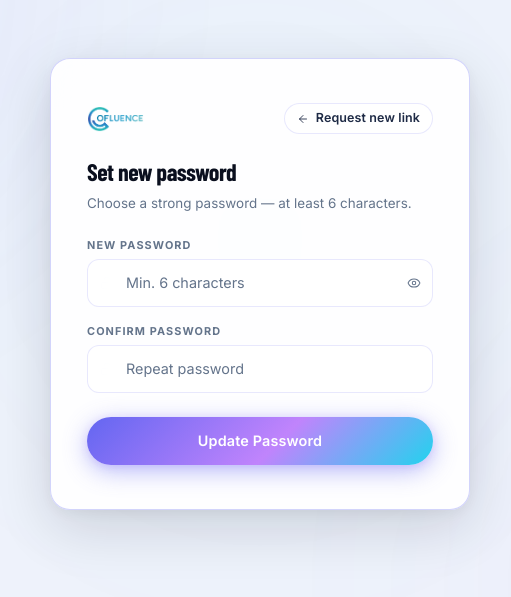
Test: ResetPassword › shows error when passwords do not match
Type "password1" into the password field with id "reset-pw" at (260, 283), box [87, 260, 433, 307]
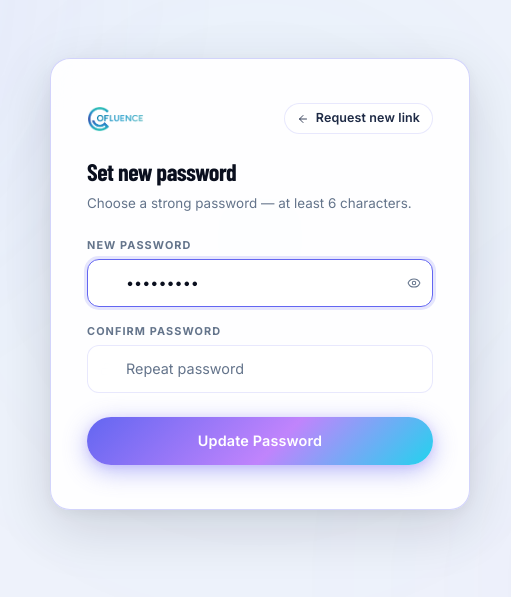
Type "password2" into the password field with id "reset-confirm" at (260, 369), box [87, 345, 433, 393]
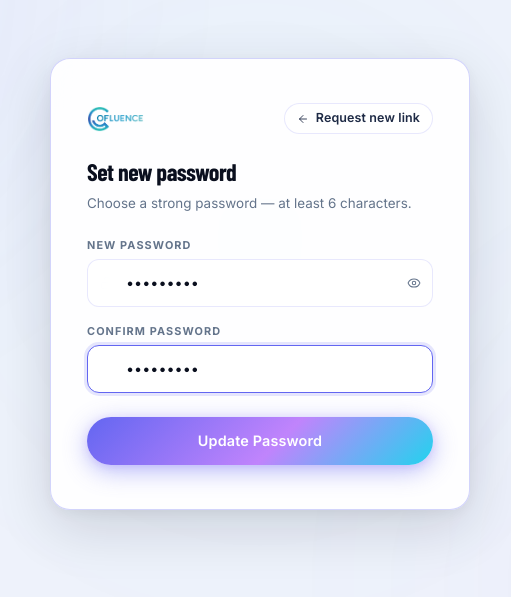
Click the button "Update Password" at (260, 441), box [87, 417, 433, 464]
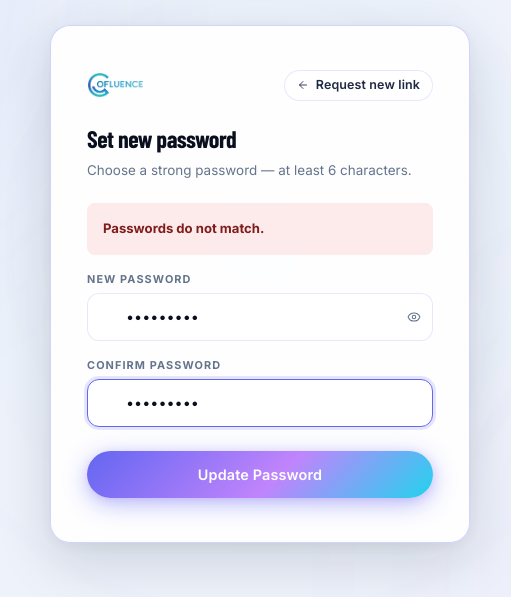
Expected: the text "Passwords do not match." is shown, [87, 203, 433, 255]
